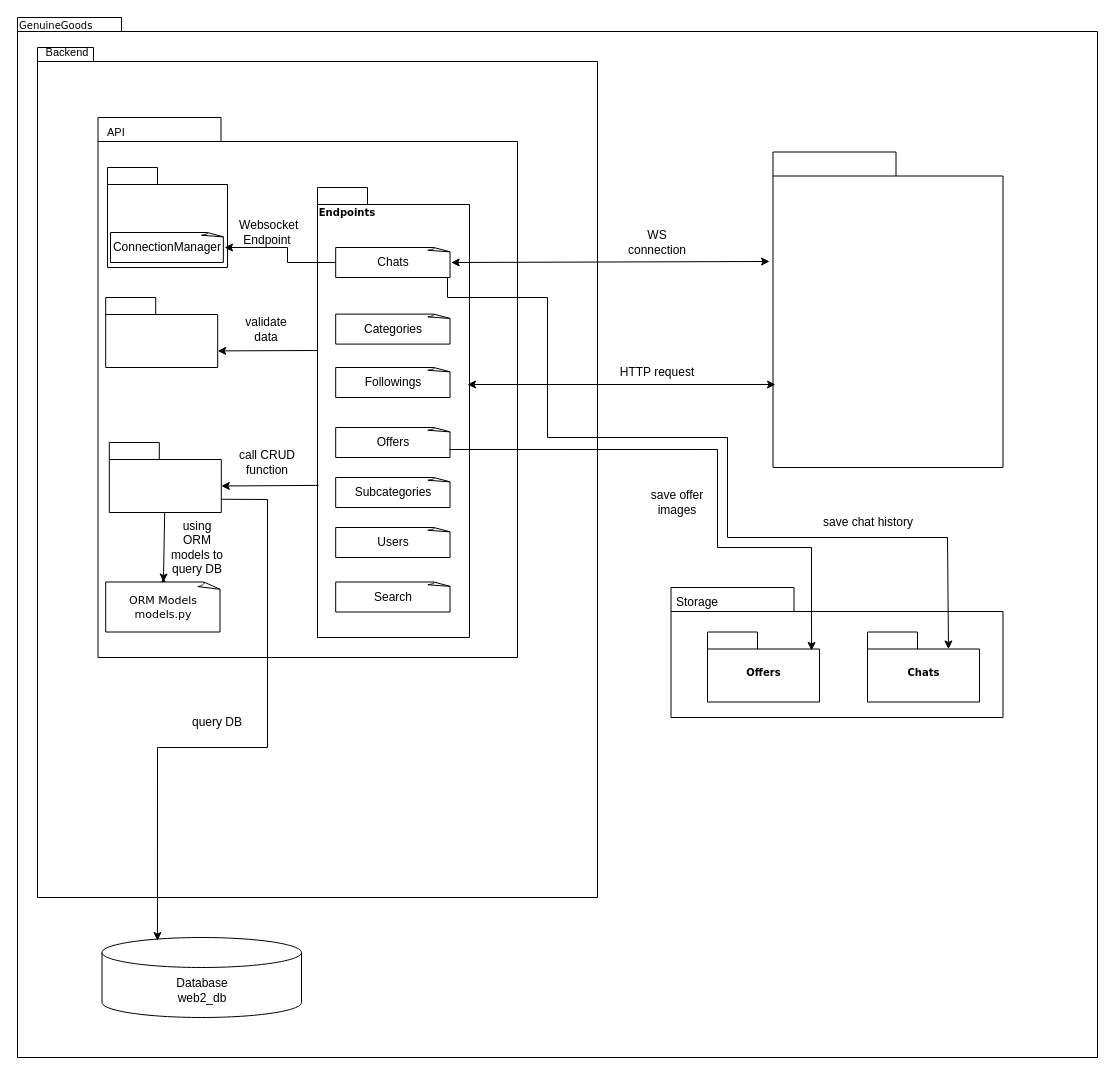
Image size: 1115x1075. Some labels were removed from this diagram. Each missing label, with the box of its shape:
Crud: (108, 442, 221, 512)
Frontend: (772, 151, 1003, 468)
Schemas (Pydantic Models): (105, 296, 218, 368)
Websockets: (106, 166, 228, 268)
